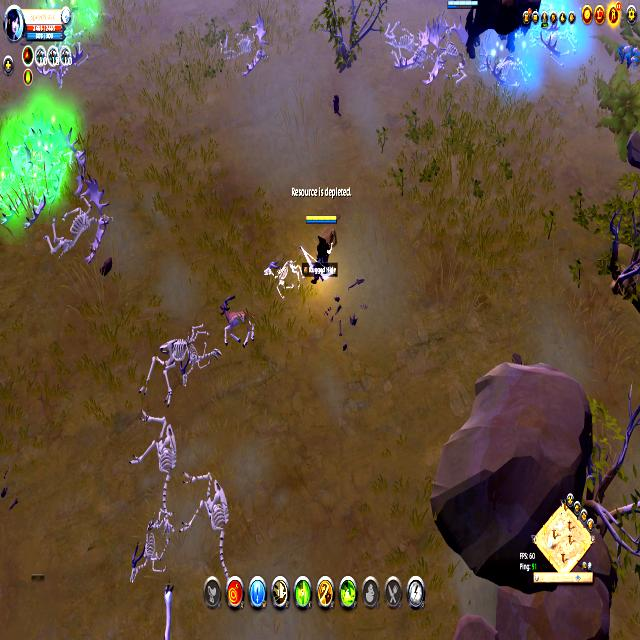hide: (617, 36, 639, 75)
mob: (217, 291, 258, 353)
red: (301, 208, 340, 285)
